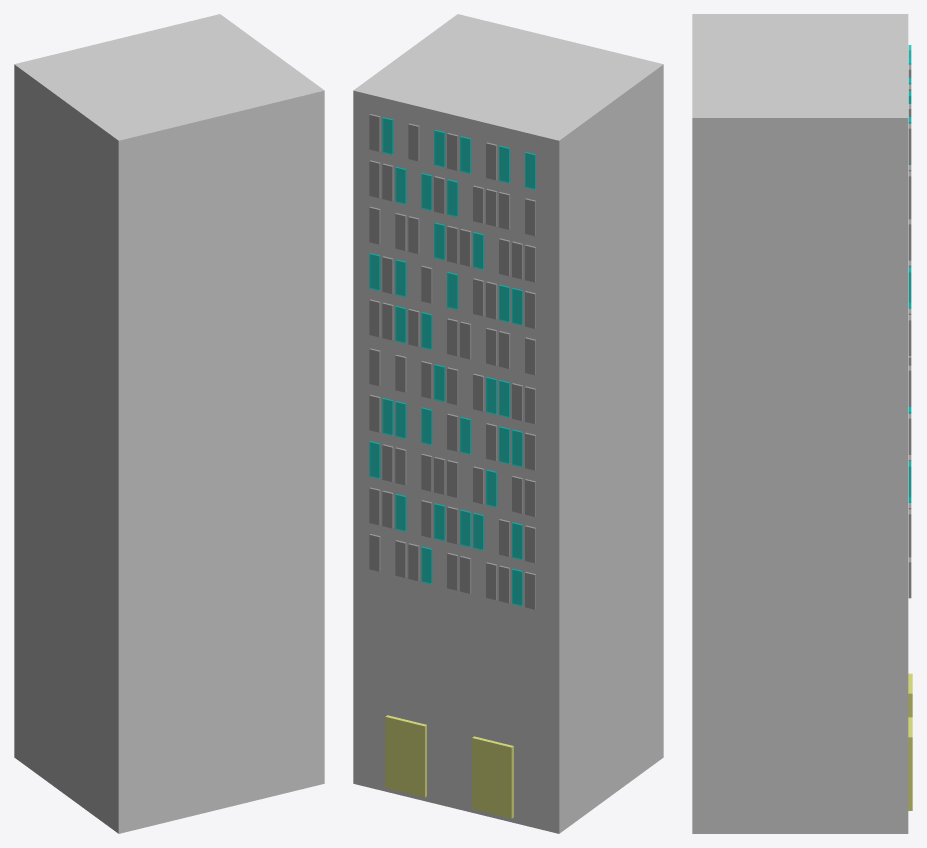
The model's file is TallBuilding_01_ZB.fbx.
The picture shows the model from 3 angles, left to right: view 1: azimuth 30°, elevation 25°; view 2: azimuth 150°, elevation 25°; view 3: azimuth 270°, elevation 25°; orthographic projection. The views are drawn at different scales.
Visible parts, largest first — view 1: polySurface1104; view 2: polySurface1104, polySurface2401, polySurface2402; view 3: polySurface1104, polySurface2401.
Boxes of the visible parts, left/top/right/bottom form: polySurface1104: left=14, top=14, right=324, bottom=833; polySurface1104: left=353, top=14, right=663, bottom=833; polySurface2401: left=385, top=715, right=426, bottom=797; polySurface2402: left=472, top=736, right=513, bottom=818; polySurface1104: left=692, top=14, right=908, bottom=833; polySurface2401: left=908, top=717, right=912, bottom=810.
Bounding box in the file's own units: 8.06 × 25.93 × 7.23.
